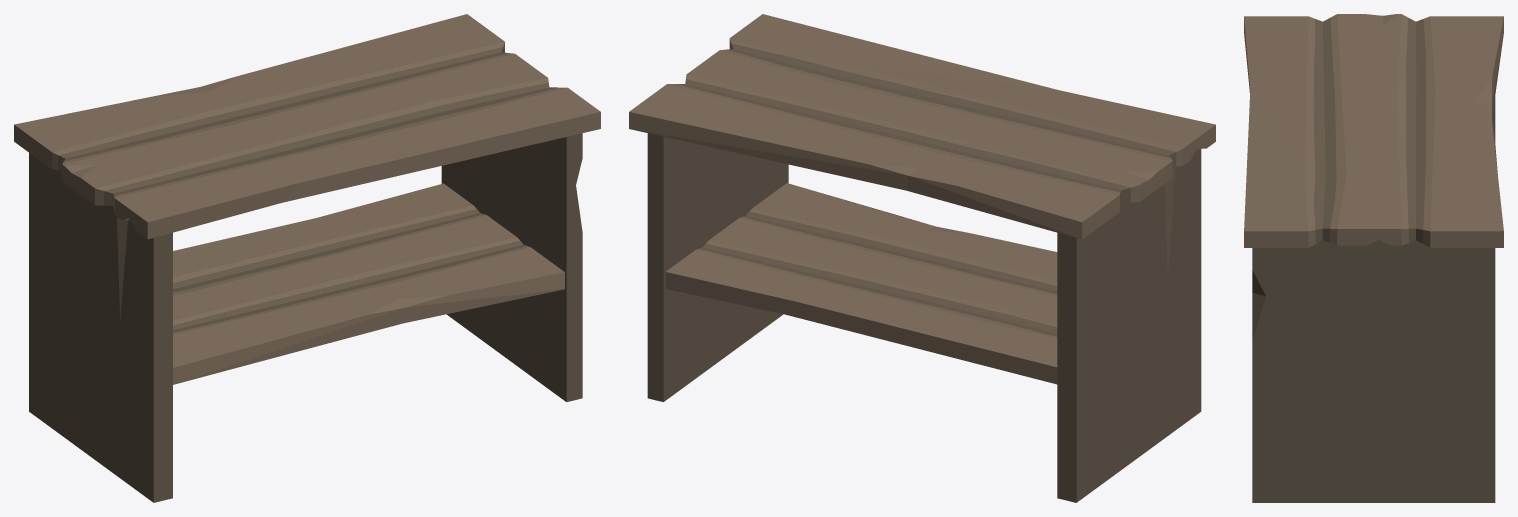
The model's file is SM_Prop_Table_04.fbx.
The picture shows the model from 3 angles, left to right: view 1: azimuth 30°, elevation 25°; view 2: azimuth 150°, elevation 25°; view 3: azimuth 270°, elevation 25°; orthographic projection. The views are drawn at different scales.
Parts seen in each view (by area): view 1: SM_Prop_Table_04; view 2: SM_Prop_Table_04; view 3: SM_Prop_Table_04.
Boxes of the visible parts, x1,y1,x2,y2 form: SM_Prop_Table_04: [14, 14, 600, 502]; SM_Prop_Table_04: [629, 14, 1215, 502]; SM_Prop_Table_04: [1244, 14, 1503, 502].
Bounding box in the file's own units: 130 × 77.44 × 65.54.
